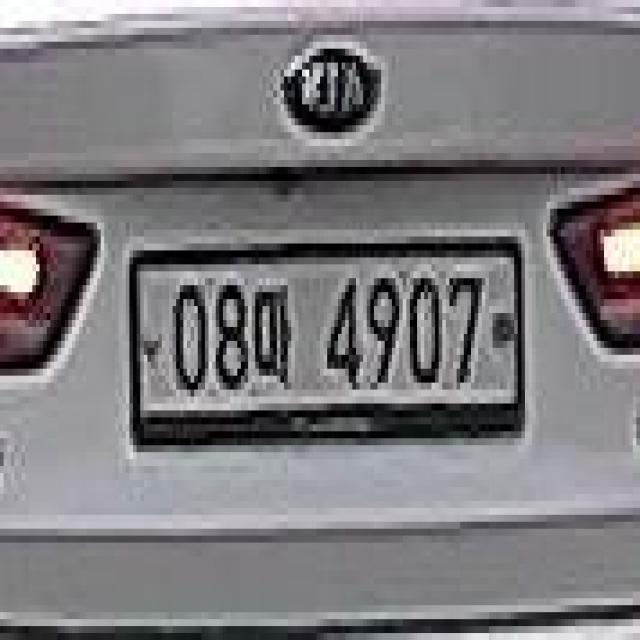illegal_plate: (123, 233, 532, 458)
